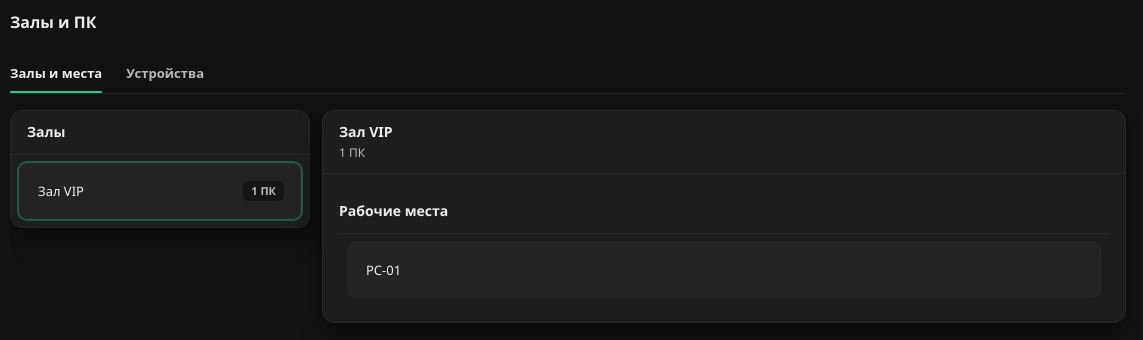
HallsDevicesDestination › switches to the devices tab and shows device inventory instead of zones
The image size is (1143, 340).
Click the tab "Устройства": [165, 73] box [126,53,204,93]
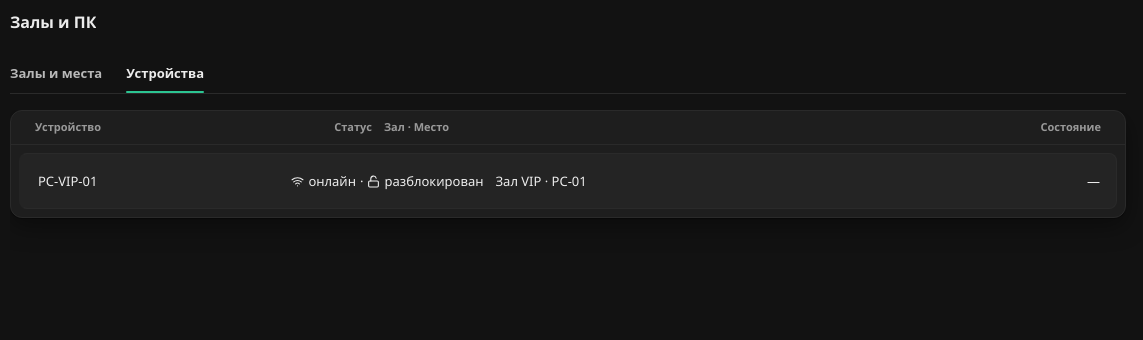
Check: the text "PC-VIP-01" is shown, box [38,172,97,190]
